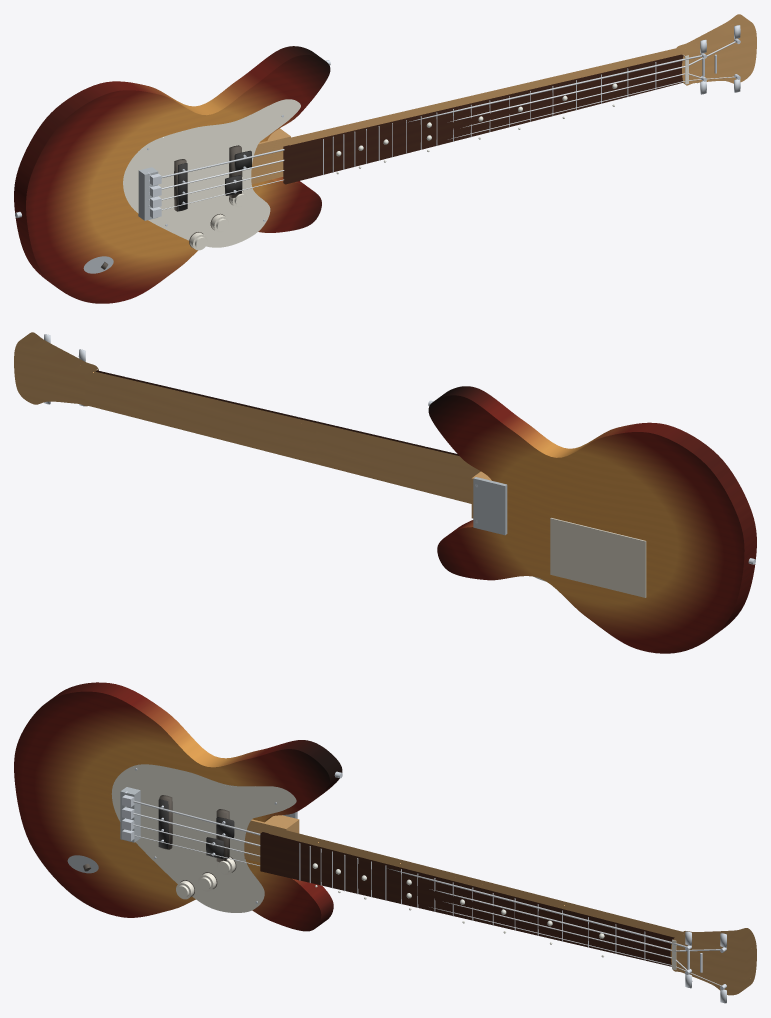
File: ElectricBass.glb
The picture shows the model from 3 angles, top to bottom: view 1: azimuth 30°, elevation 25°; view 2: azimuth 150°, elevation 25°; view 3: azimuth 330°, elevation 25°; orthographic projection. The views are drawn at different scales.
Parts seen in each view (by area): view 1: Body_Mesh, Fretboard, Pickguard, Headstock_Mesh, Neck_Mesh, Neck_Heel, String_1_LowE, String_2_A, Bridge_Base, String_3_D, String_4_G; view 2: Body_Mesh, Neck_Mesh, RearCover_Electronics, Headstock_Mesh, NeckPlate, Fretboard; view 3: Body_Mesh, Fretboard, Pickguard, Headstock_Mesh, Neck_Mesh, Neck_Heel, String_1_LowE, String_2_A, String_3_D, Bridge_Base, String_4_G.
Part boxes in pixels (left/top/right/bottom): Body_Mesh: left=14, top=46, right=330, bottom=303; Fretboard: left=283, top=54, right=683, bottom=184; Pickguard: left=123, top=99, right=300, bottom=247; Headstock_Mesh: left=675, top=14, right=756, bottom=85; Neck_Mesh: left=282, top=48, right=681, bottom=176; Neck_Heel: left=251, top=128, right=290, bottom=184; String_1_LowE: left=161, top=55, right=701, bottom=177; String_2_A: left=161, top=41, right=735, bottom=189; Bridge_Base: left=138, top=167, right=158, bottom=220; String_3_D: left=161, top=73, right=701, bottom=200; String_4_G: left=162, top=76, right=735, bottom=210; Body_Mesh: left=428, top=386, right=756, bottom=653; Neck_Mesh: left=85, top=372, right=480, bottom=503; RearCover_Electronics: left=550, top=518, right=646, bottom=597; Headstock_Mesh: left=14, top=332, right=98, bottom=406; NeckPlate: left=473, top=477, right=507, bottom=535; Fretboard: left=95, top=370, right=458, bottom=455; Body_Mesh: left=14, top=682, right=342, bottom=931; Fretboard: left=260, top=832, right=674, bottom=966; Pickguard: left=111, top=764, right=296, bottom=912; Headstock_Mesh: left=670, top=928, right=756, bottom=995; Neck_Mesh: left=269, top=828, right=682, bottom=937; Neck_Heel: left=244, top=815, right=299, bottom=862; String_1_LowE: left=133, top=800, right=686, bottom=947; String_2_A: left=133, top=813, right=720, bottom=951; String_3_D: left=133, top=824, right=686, bottom=970; Bridge_Base: left=120, top=787, right=140, bottom=842; String_4_G: left=133, top=835, right=721, bottom=985.
Bounding box in the file's own units: 1.18 × 0.3305 × 0.088.
15 materials, 3 textured.
